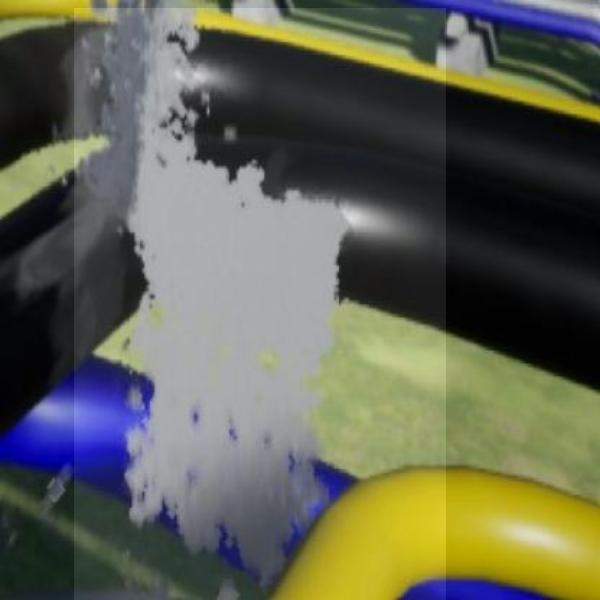gas: (74, 8, 446, 600)
